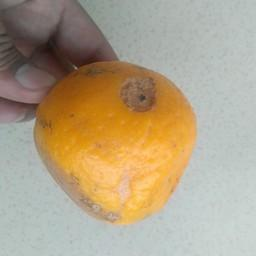Bad_orange: (29, 60, 197, 228)
